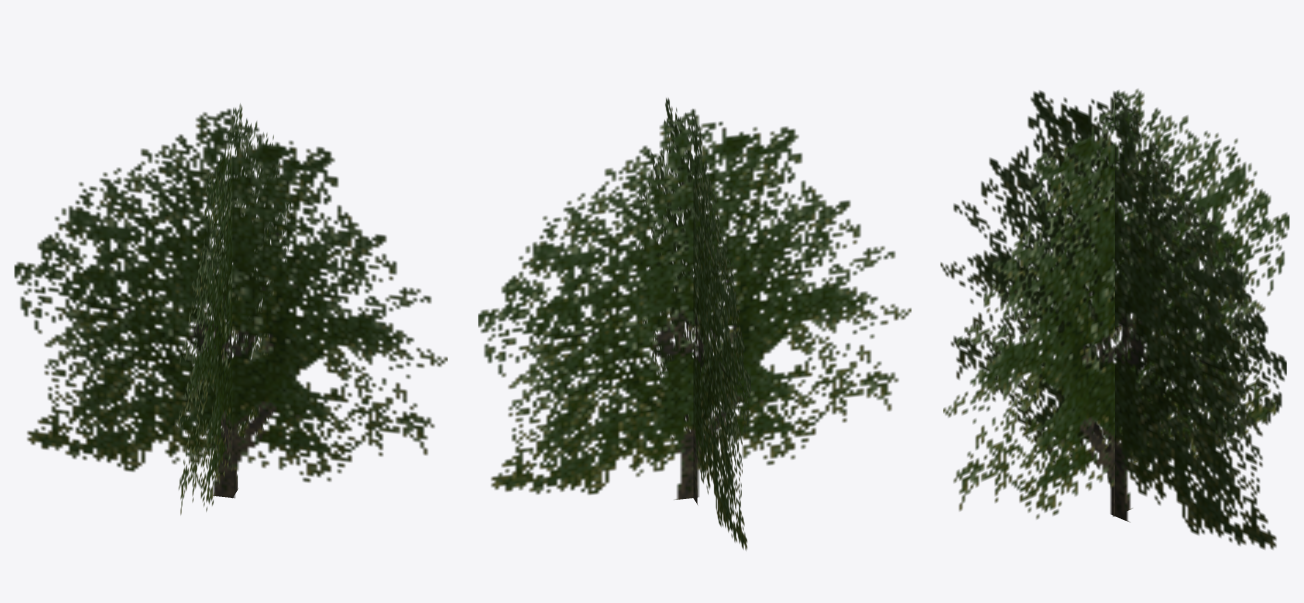
The model's file is tree082.glb.
The picture shows the model from 3 angles, left to right: view 1: azimuth 30°, elevation 25°; view 2: azimuth 150°, elevation 25°; view 3: azimuth 270°, elevation 25°; orthographic projection. The views are drawn at different scales.
Parts seen in each view (by area): view 1: tree082; view 2: tree082; view 3: tree082.
Boxes of the visible parts, box(x1,y1,x2,y2) form: tree082: box(14, 103, 447, 514); tree082: box(478, 98, 911, 550); tree082: box(940, 89, 1289, 549).
Size of the model in its own units: 2.41 by 3.35 by 2.41.
Materials: 1 (1 with a texture image).
